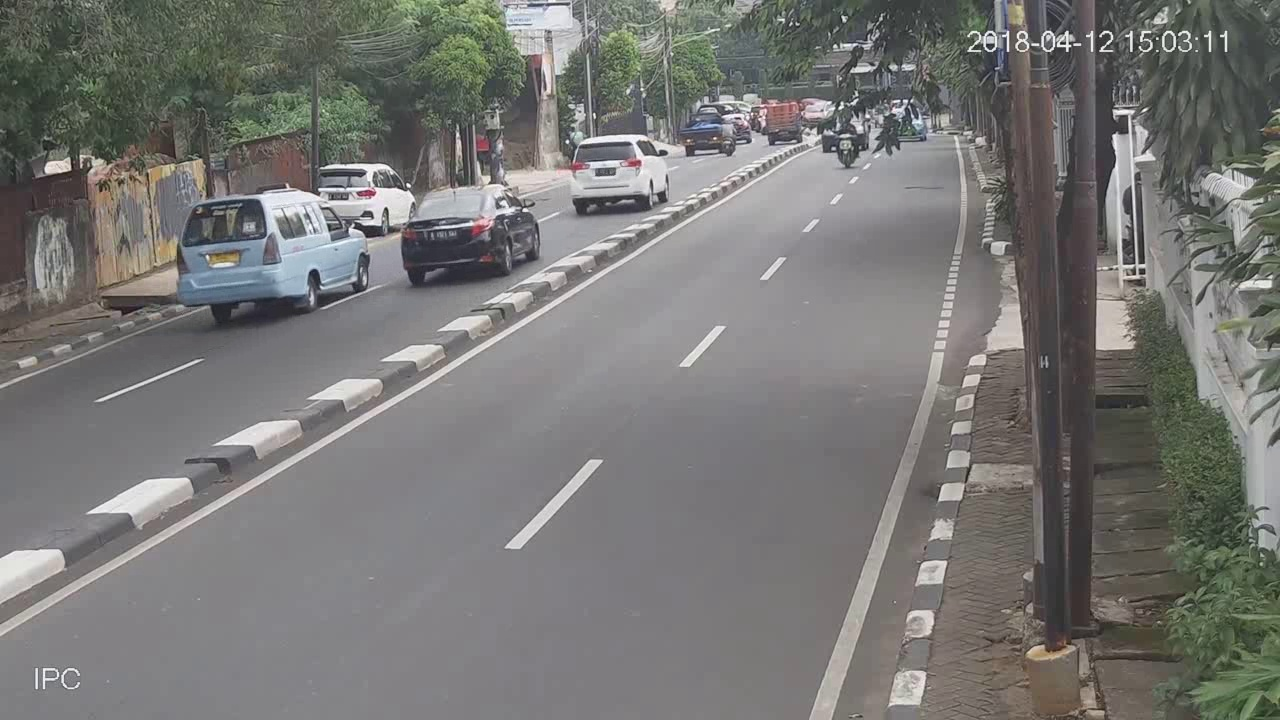car: (174, 196, 377, 325), (399, 181, 542, 290), (564, 136, 672, 214)
